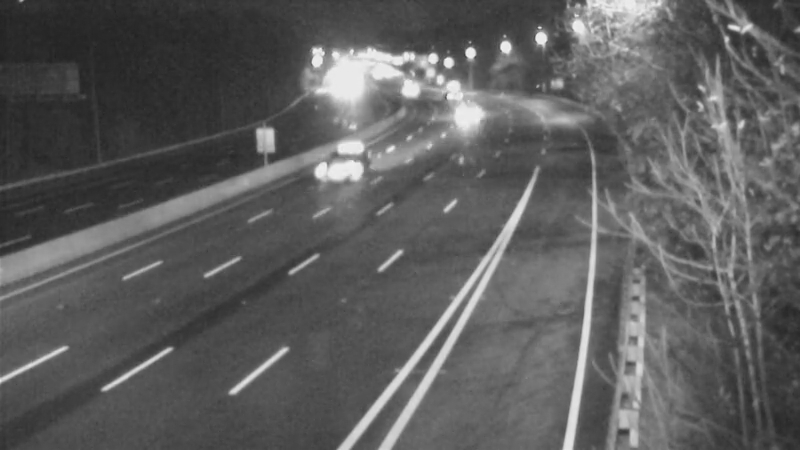vehicle: (307, 123, 387, 203), (431, 64, 481, 114), (446, 91, 496, 141)
